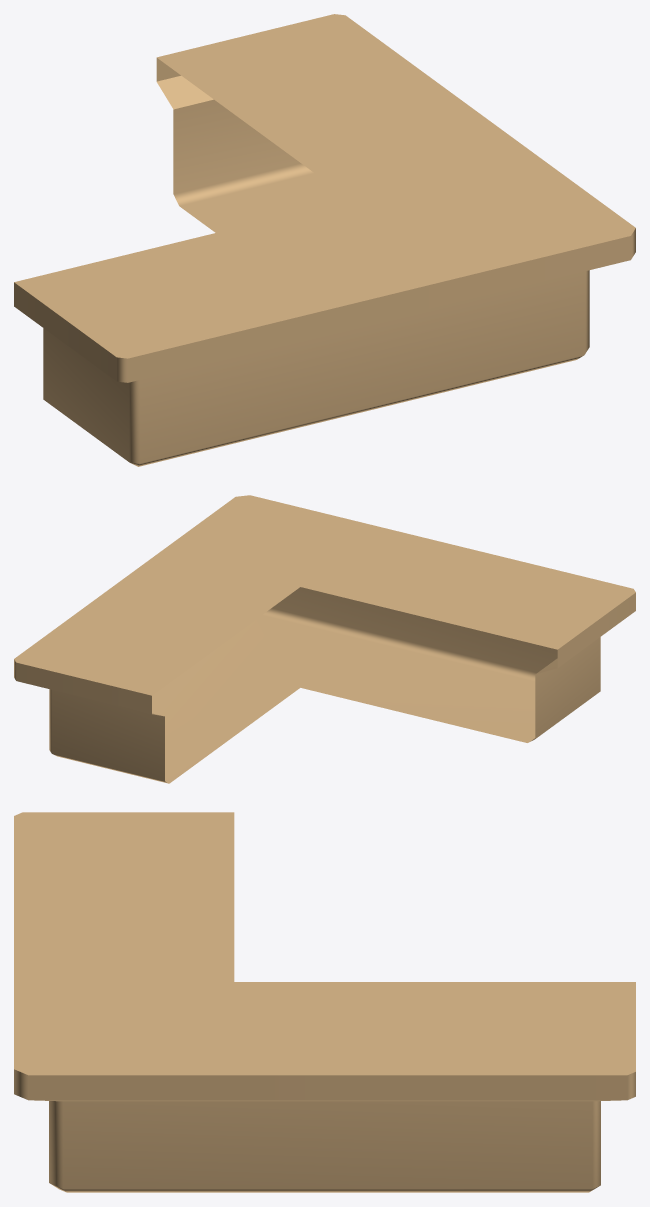
File: DBK_Trim_C_Cap_Corner.fbx
The picture shows the model from 3 angles, top to bottom: view 1: azimuth 30°, elevation 25°; view 2: azimuth 150°, elevation 25°; view 3: azimuth 270°, elevation 25°; orthographic projection. The views are drawn at different scales.
Parts seen in each view (by area): view 1: DBK_Trim_C_Cap_Corner; view 2: DBK_Trim_C_Cap_Corner; view 3: DBK_Trim_C_Cap_Corner.
Boxes of the visible parts, bbox=[...] form: DBK_Trim_C_Cap_Corner: bbox=[14, 14, 635, 466]; DBK_Trim_C_Cap_Corner: bbox=[14, 495, 635, 783]; DBK_Trim_C_Cap_Corner: bbox=[14, 812, 635, 1192].
Bounding box in the file's own units: 66.47 × 16.08 × 66.47.
